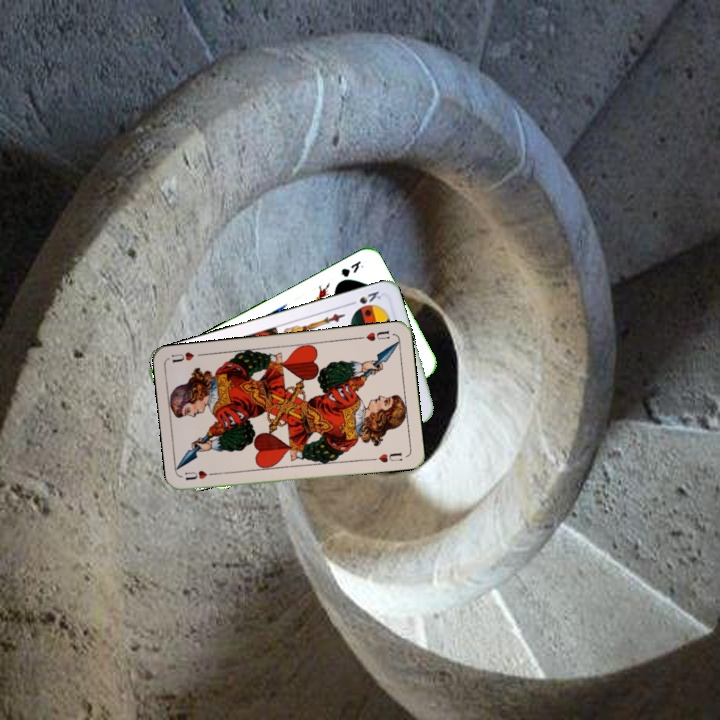GK: (337, 257, 366, 280)
HU: (181, 467, 221, 483), (355, 327, 392, 344)
SK: (344, 287, 384, 308)
